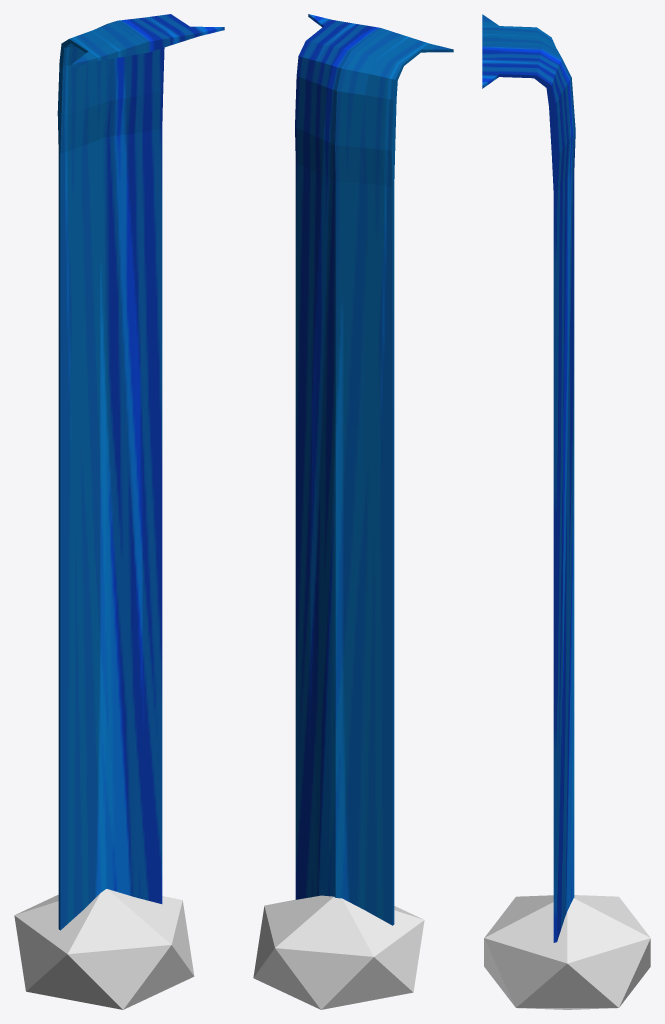
The model's file is Waterfall.fbx.
The picture shows the model from 3 angles, left to right: view 1: azimuth 30°, elevation 25°; view 2: azimuth 150°, elevation 25°; view 3: azimuth 270°, elevation 25°; orthographic projection. The views are drawn at different scales.
Parts seen in each view (by area): view 1: Waterfall.004, Waterfall.002, Waterfall.003, Waterfall.001, Splash, Waterfall, Waterfall.005; view 2: Waterfall, Waterfall.001, Waterfall.003, Waterfall.004, Waterfall.002, Splash, Waterfall.005; view 3: Splash, Waterfall, Waterfall.001, Waterfall.004, Waterfall.003, Waterfall.002, Waterfall.005.
Part boxes in pixels (bbox=[...]): Waterfall.004: bbox=[58, 629, 162, 820]; Waterfall.002: bbox=[58, 295, 162, 486]; Waterfall.003: bbox=[58, 462, 162, 653]; Waterfall.001: bbox=[58, 128, 162, 319]; Splash: bbox=[14, 889, 194, 1009]; Waterfall: bbox=[57, 14, 224, 153]; Waterfall.005: bbox=[58, 795, 162, 930]; Waterfall: bbox=[295, 14, 453, 186]; Waterfall.001: bbox=[295, 163, 394, 345]; Waterfall.003: bbox=[295, 480, 394, 662]; Waterfall.004: bbox=[295, 639, 394, 820]; Waterfall.002: bbox=[295, 322, 394, 503]; Splash: bbox=[253, 895, 424, 1009]; Waterfall.005: bbox=[295, 797, 394, 925]; Splash: bbox=[484, 895, 650, 1009]; Waterfall: bbox=[482, 14, 575, 192]; Waterfall.001: bbox=[553, 169, 574, 353]; Waterfall.004: bbox=[553, 653, 574, 837]; Waterfall.003: bbox=[553, 492, 574, 676]; Waterfall.002: bbox=[553, 330, 574, 515]; Waterfall.005: bbox=[553, 814, 574, 942].
Size of the model in its own units: 0.9843 by 5.97 by 0.9471.
1 material, 1 textured.
